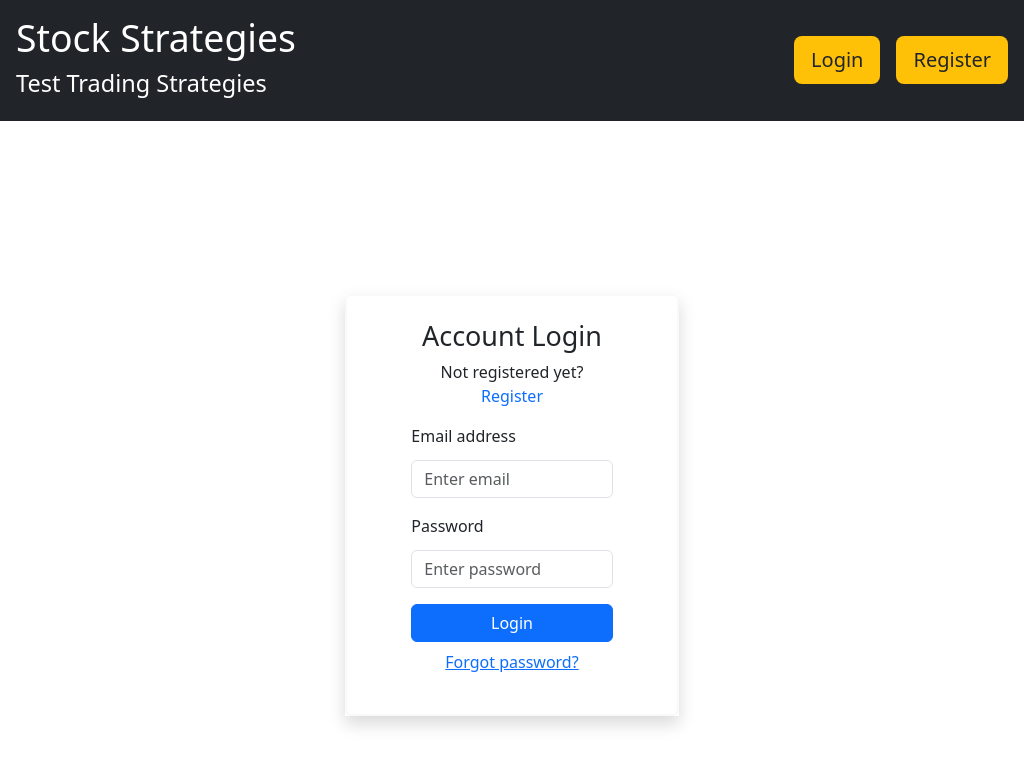
it: LoginRegister component › invalid login tests › bad creds
Type "test@abc123.com" into the field labelled "Email address". click: (512, 479)
box: [411,460,613,498]
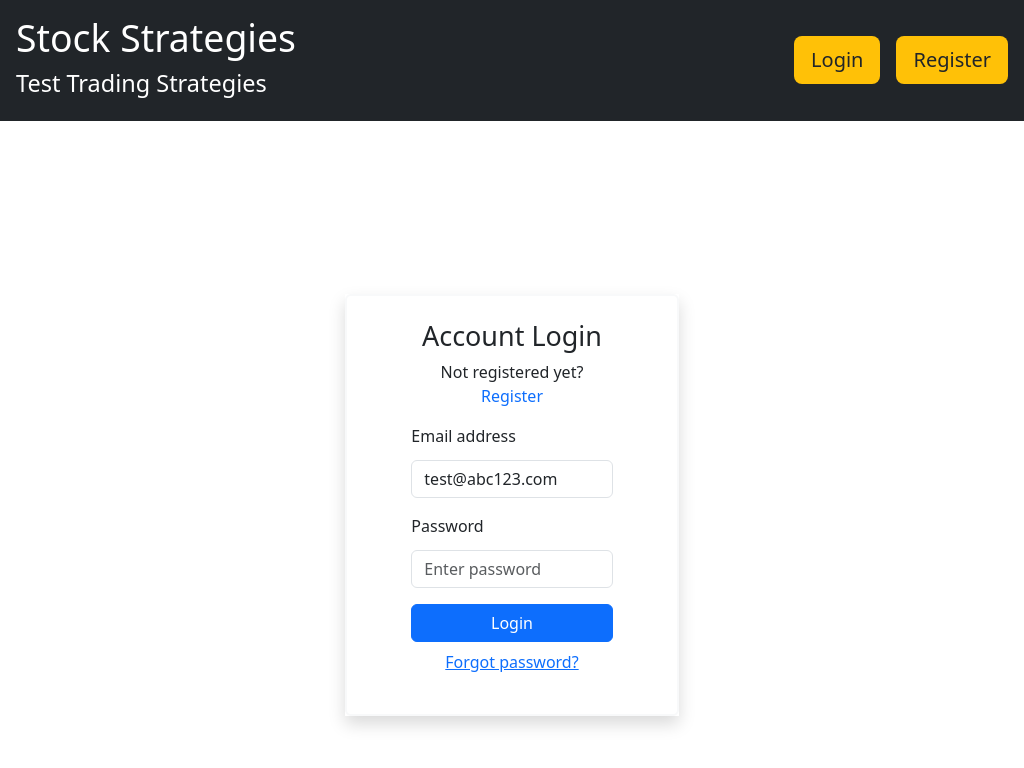
Type "asdfasdfa" into the password field labelled "Password". click: (512, 569)
box: [411,550,613,588]
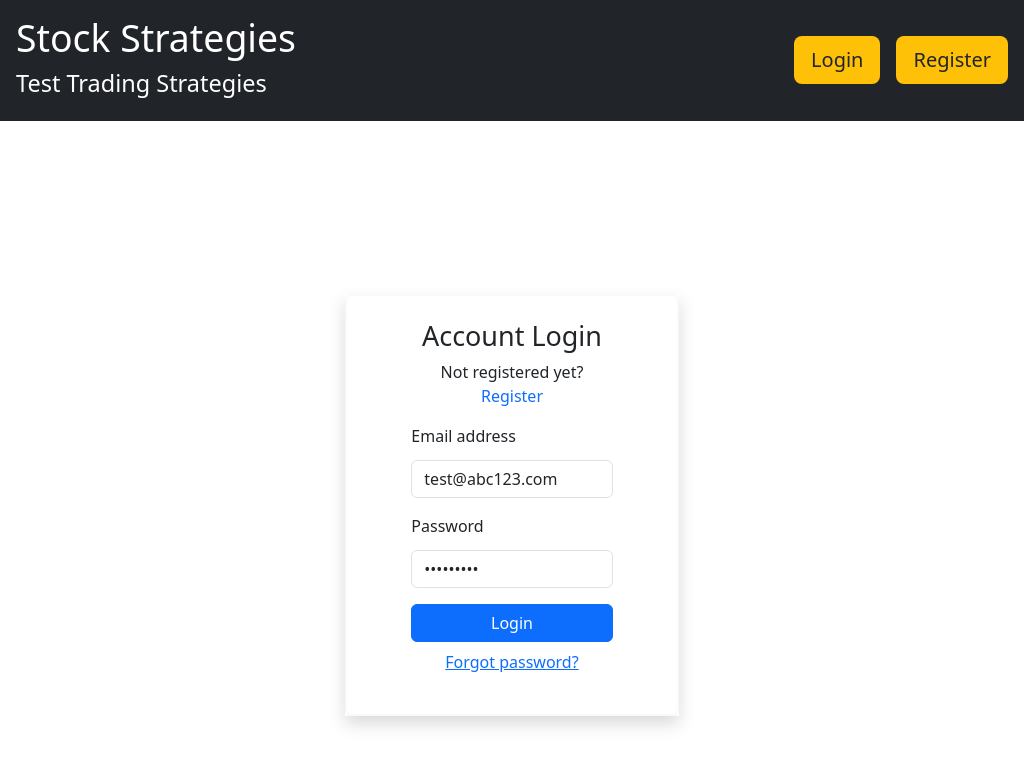
// Submit the form
Click the button "Login" below "Email address". click: (512, 623)
box: [411,604,613,642]
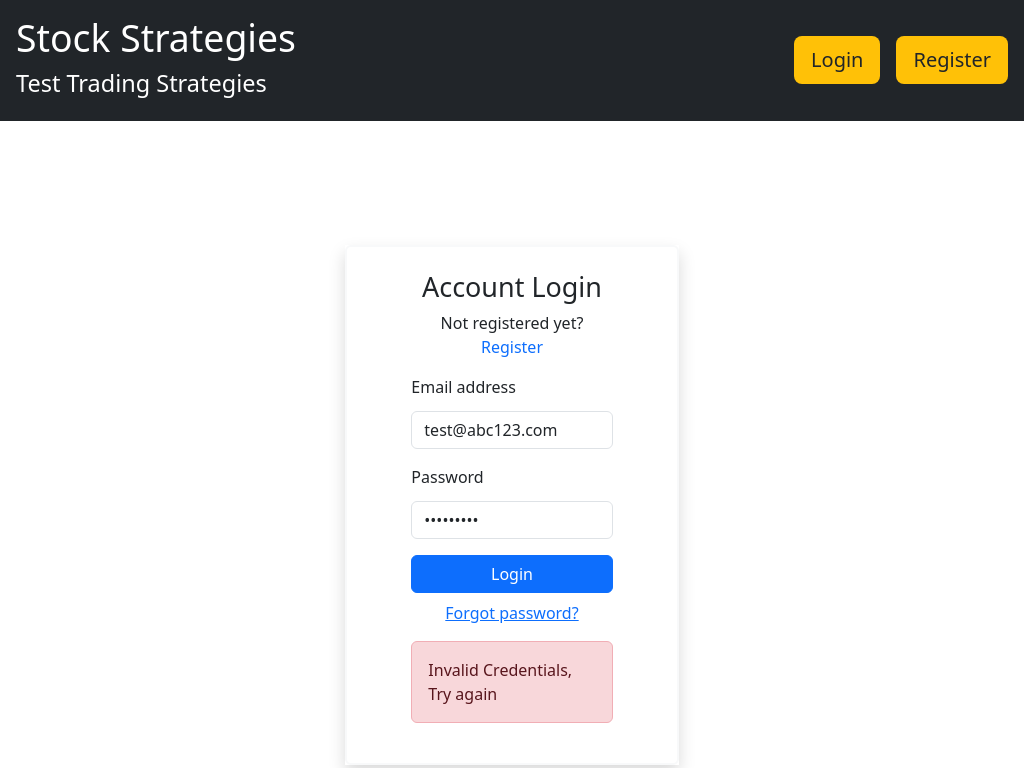
Result: the message shows "Invalid Credentials" at [428,659,572,705]
